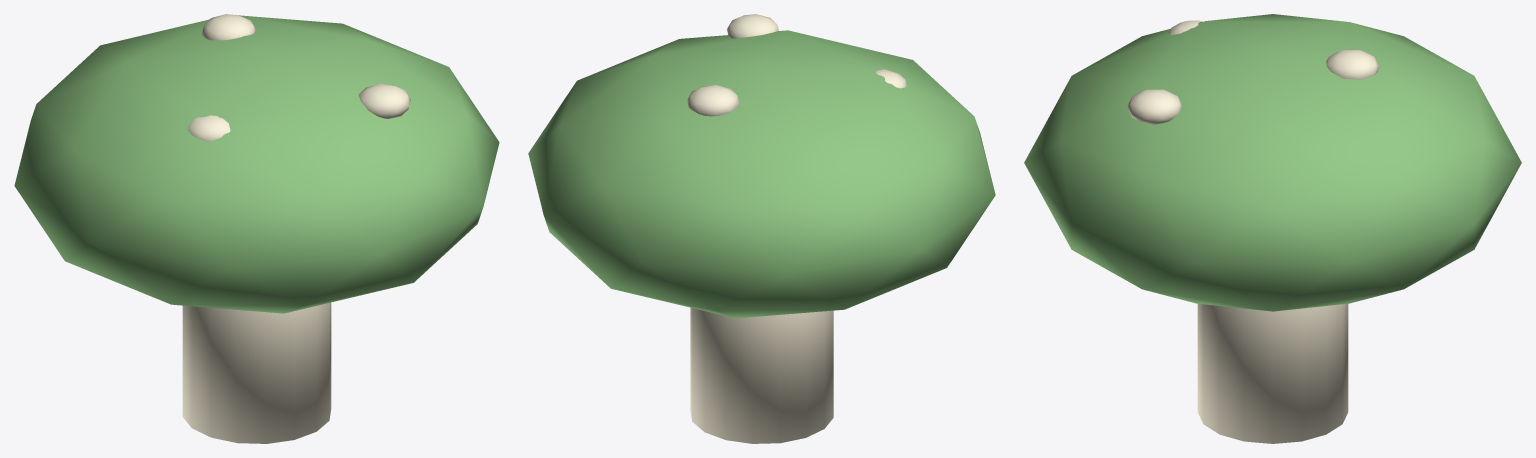
File: quest-mushroom-complete.glb
The picture shows the model from 3 angles, left to right: view 1: azimuth 30°, elevation 25°; view 2: azimuth 150°, elevation 25°; view 3: azimuth 270°, elevation 25°; orthographic projection. The views are drawn at different scales.
Parts seen in each view (by area): view 1: Mushroom cap, quest-mushroom-complete_Quest ivory; view 2: Mushroom cap, quest-mushroom-complete_Quest ivory; view 3: Mushroom cap, quest-mushroom-complete_Quest ivory.
Boxes of the visible parts, left/top/right/bottom form: Mushroom cap: left=14, top=15, right=499, bottom=313; quest-mushroom-complete_Quest ivory: left=182, top=14, right=410, bottom=443; Mushroom cap: left=528, top=30, right=995, bottom=318; quest-mushroom-complete_Quest ivory: left=687, top=14, right=906, bottom=443; Mushroom cap: left=1024, top=14, right=1521, bottom=311; quest-mushroom-complete_Quest ivory: left=1127, top=20, right=1379, bottom=443.
Bounding box in the file's own units: 0.7228 × 0.614 × 0.76.
